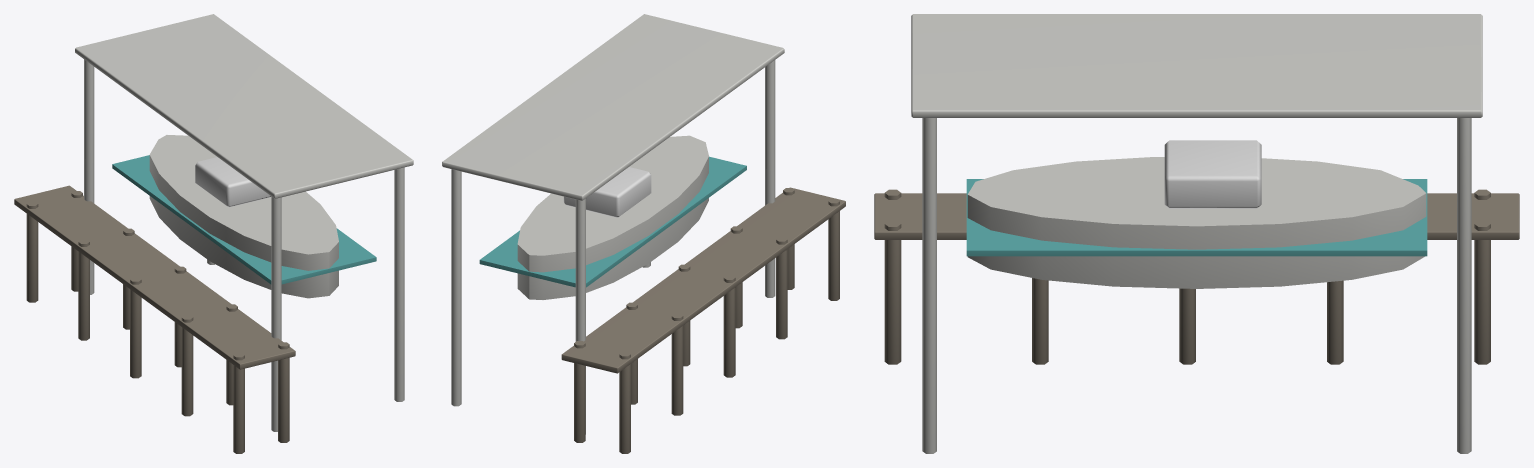
The model's file is DockFL.fbx.
3 views of the same model, side by side, from view 1: azimuth 30°, elevation 25°; view 2: azimuth 150°, elevation 25°; view 3: azimuth 270°, elevation 25° (orthographic). The views are drawn at different scales.
Visible parts, largest first — view 1: DockFL; view 2: DockFL; view 3: DockFL.
Boxes of the visible parts, box(x1,y1,x2,y2) form: DockFL: box(14, 14, 413, 453); DockFL: box(442, 14, 845, 453); DockFL: box(874, 14, 1519, 453).
Size of the model in its own units: 3.35 by 4.15 by 7.
